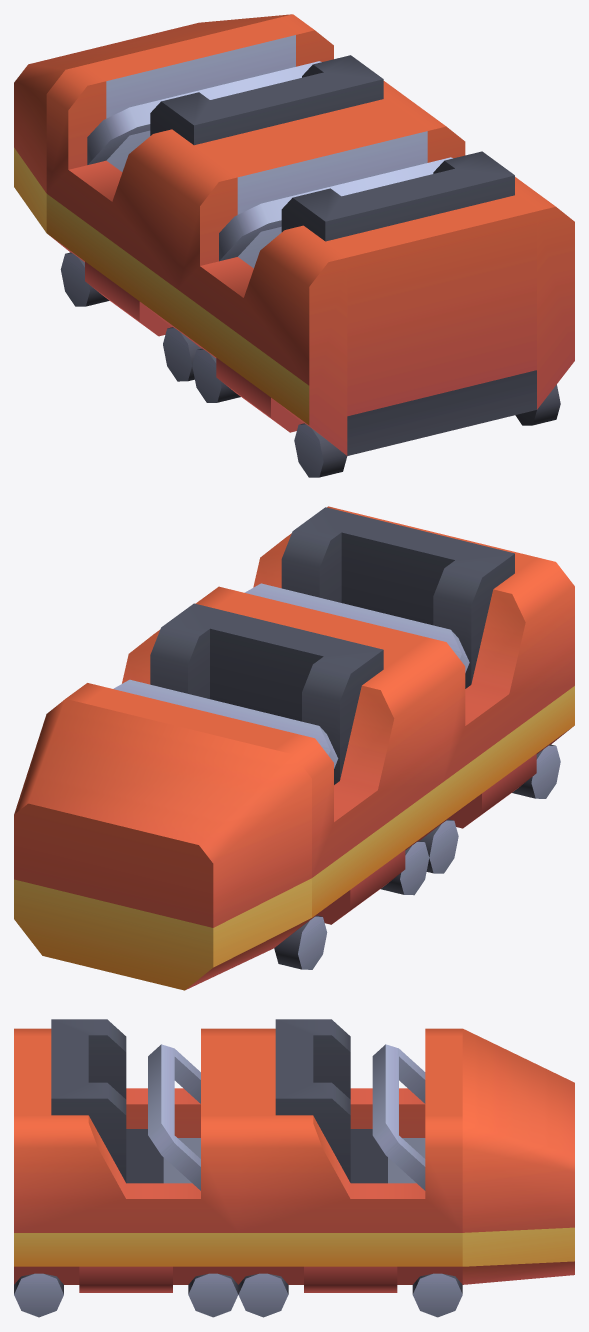
File: kenney-coaster-coaster-train-front.glb
The picture shows the model from 3 angles, top to bottom: view 1: azimuth 30°, elevation 25°; view 2: azimuth 150°, elevation 25°; view 3: azimuth 270°, elevation 25°; orthographic projection. The views are drawn at different scales.
Parts seen in each view (by area): view 1: coaster-train-front; view 2: coaster-train-front; view 3: coaster-train-front.
Boxes of the visible parts, x1,y1,x2,y2 form: coaster-train-front: [14, 14, 574, 477]; coaster-train-front: [14, 506, 574, 990]; coaster-train-front: [14, 1019, 574, 1317].
Bounding box in the file's own units: 0.6999 × 0.6169 × 1.5.
Materials: 1 (1 with a texture image).
